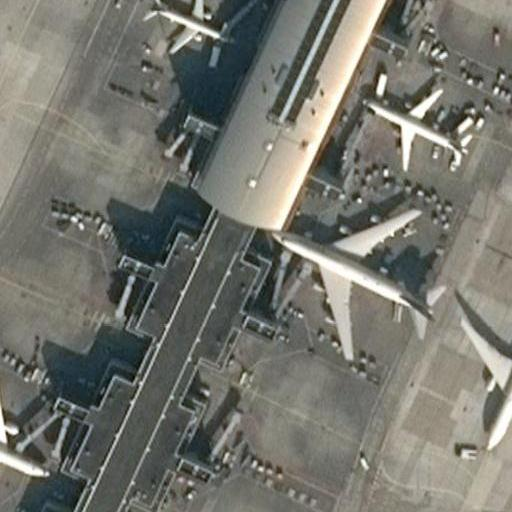Aircraft: (271, 211, 439, 353), (452, 275, 512, 457), (370, 65, 475, 162), (145, 0, 234, 57)
